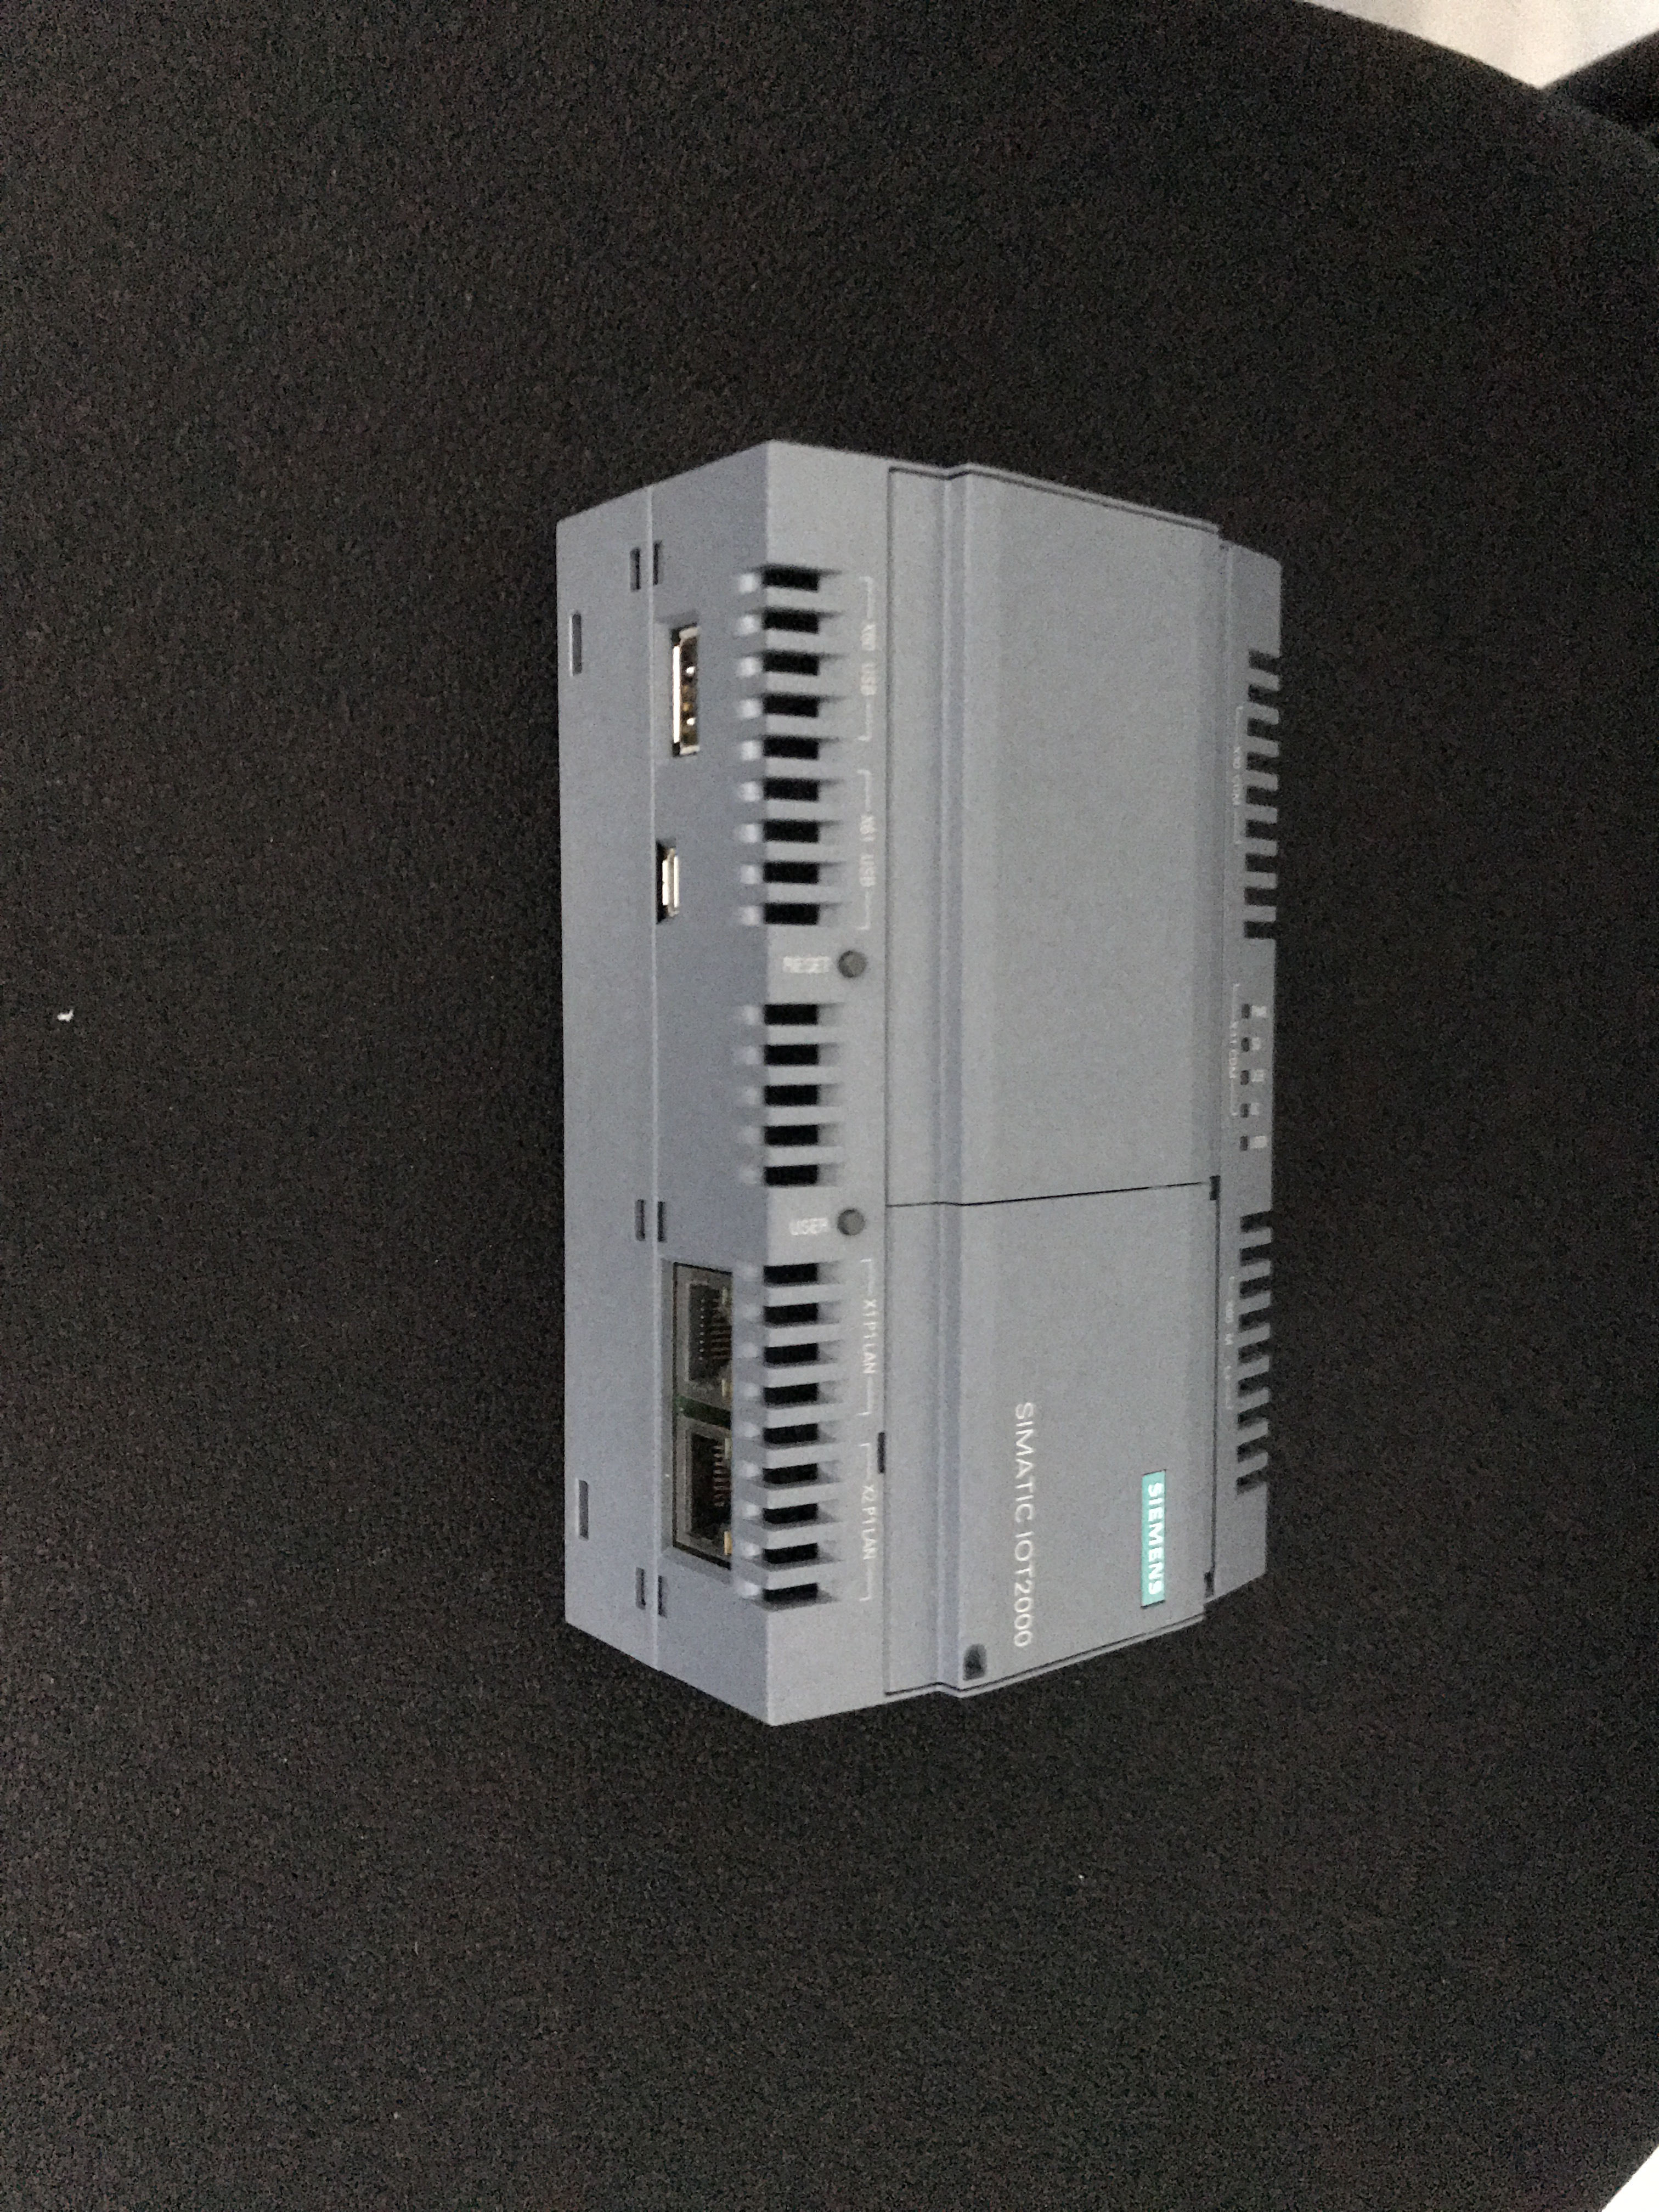device: (556, 437, 1283, 1728)
